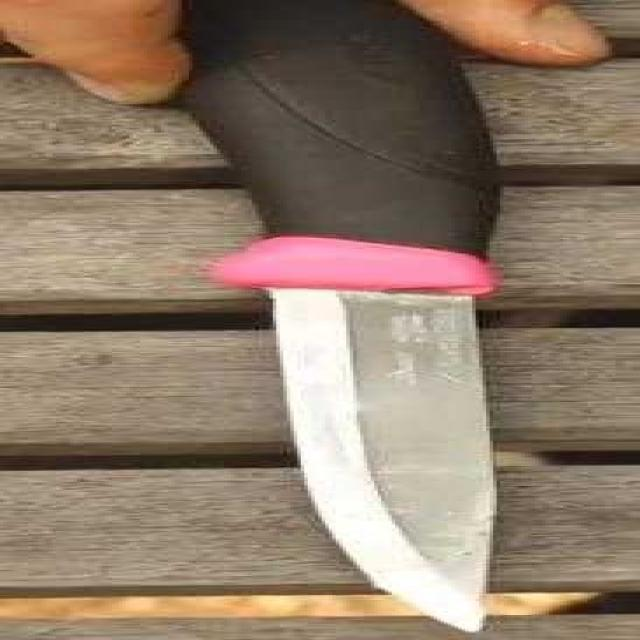Knife: (144, 0, 561, 638)
